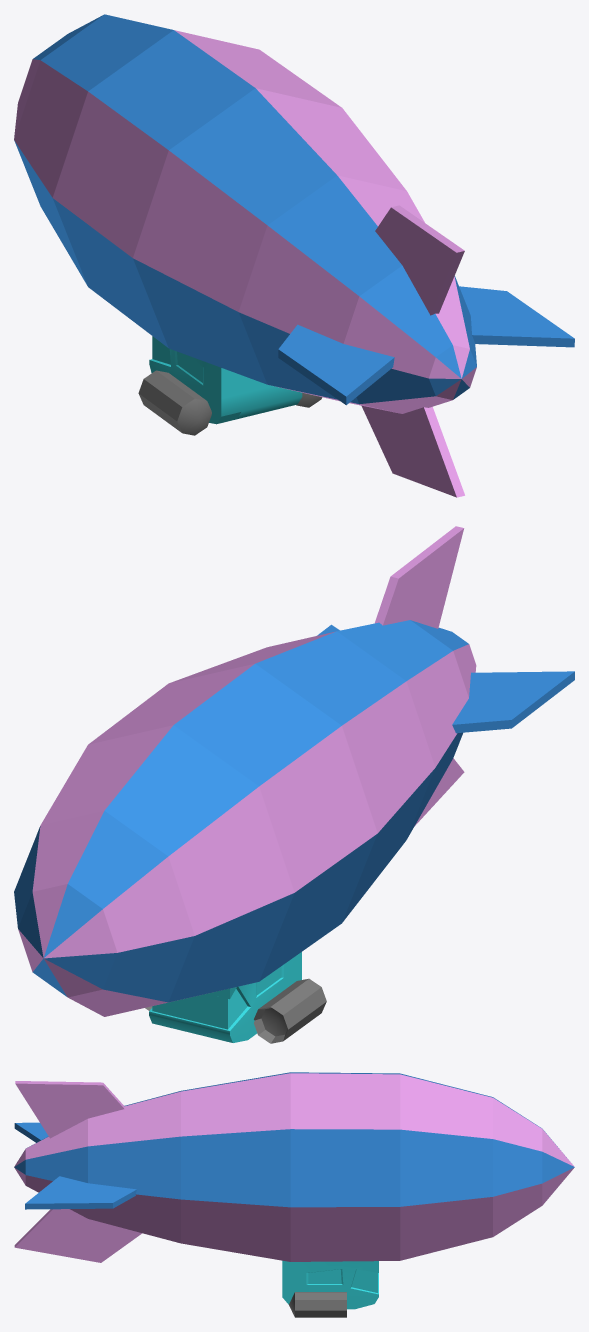
File: zeplin.fbx
3 renders of one model, top to bottom at view 1: azimuth 30°, elevation 25°; view 2: azimuth 150°, elevation 25°; view 3: azimuth 270°, elevation 25°, orthographic. The views are drawn at different scales.
Visible parts, largest first — view 1: airship; view 2: airship; view 3: airship.
Part boxes in pixels (left/top/right/bottom): airship: left=14, top=14, right=574, bottom=497; airship: left=14, top=526, right=574, bottom=1043; airship: left=14, top=1072, right=574, bottom=1317.
Size of the model in its own units: 6.21 by 8.12 by 18.3.
